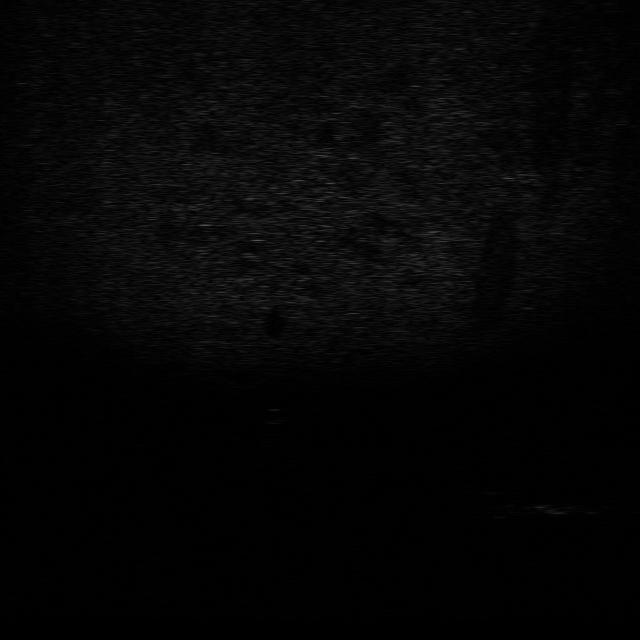ball: (256, 406, 292, 426)
metal bucket: (520, 501, 605, 518)
tyre: (472, 490, 522, 520)
